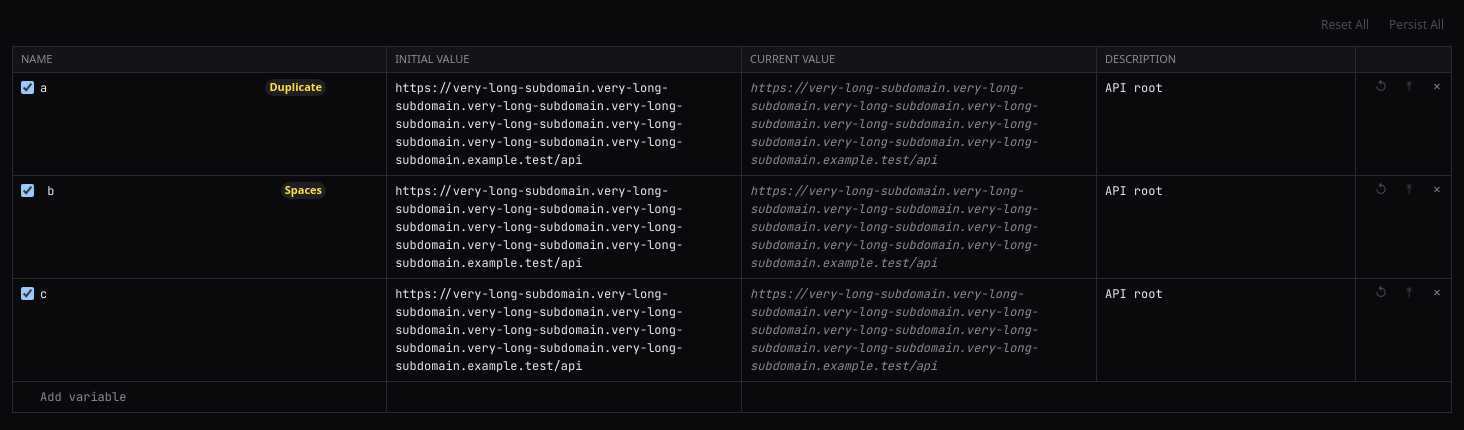
Test: VariableTable › flags duplicate names and names with surrounding spaces, also while editing
Expected: the text "Duplicate" is shown, [266,79,326,96]
Expected: the text "Spaces" is shown, [281,182,326,199]
Clear the field named "Name of c" at (181, 294), box [36,278,326,308]
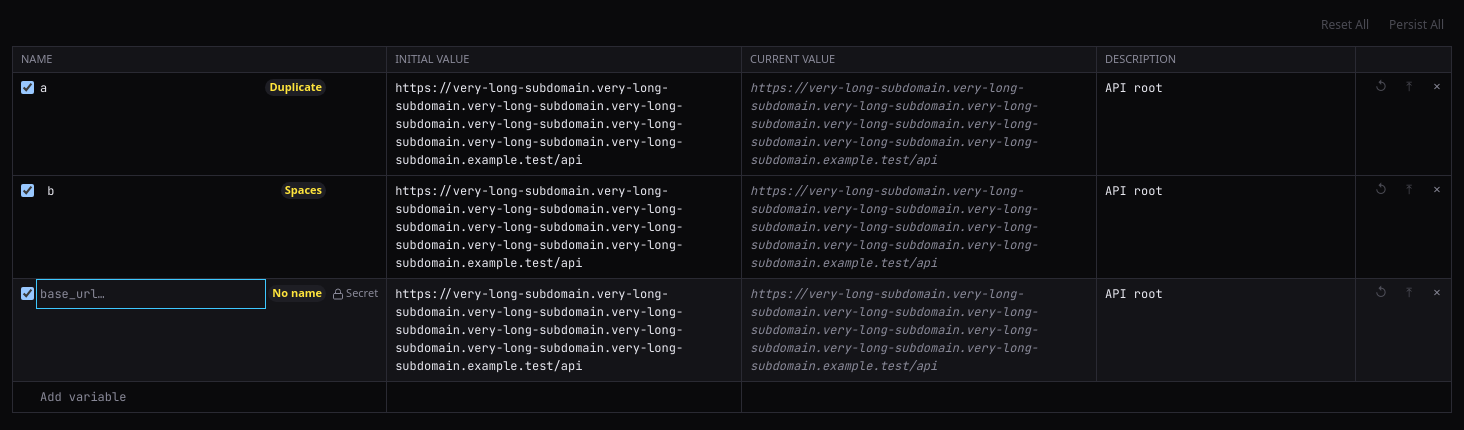
Type "a" into the field named "Name of c" at (151, 294), box [36,278,266,308]
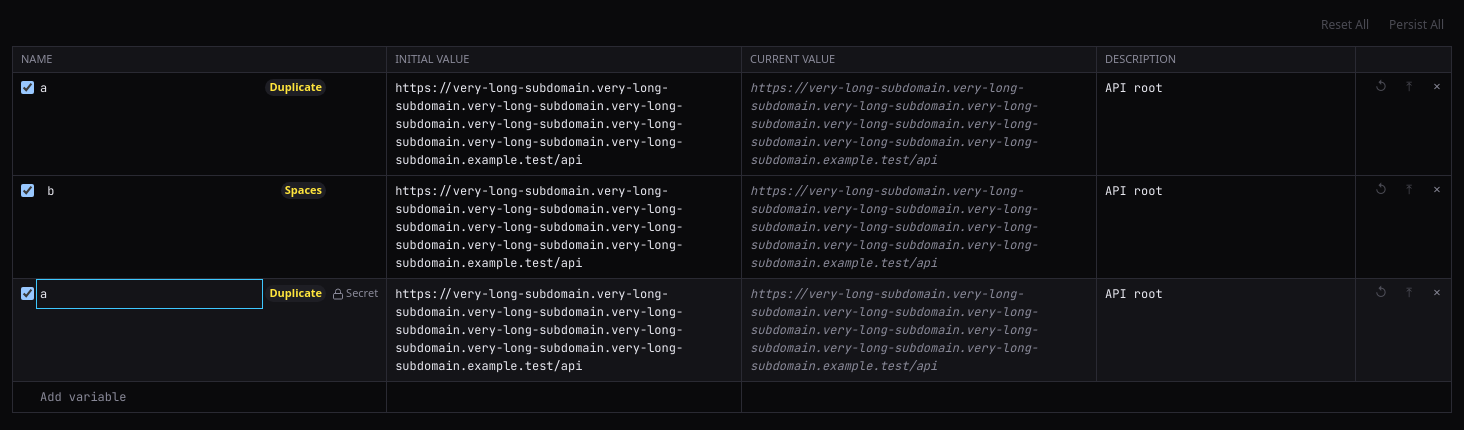
Expected: the 2nd text "Duplicate" is shown, [266,285,326,302]
